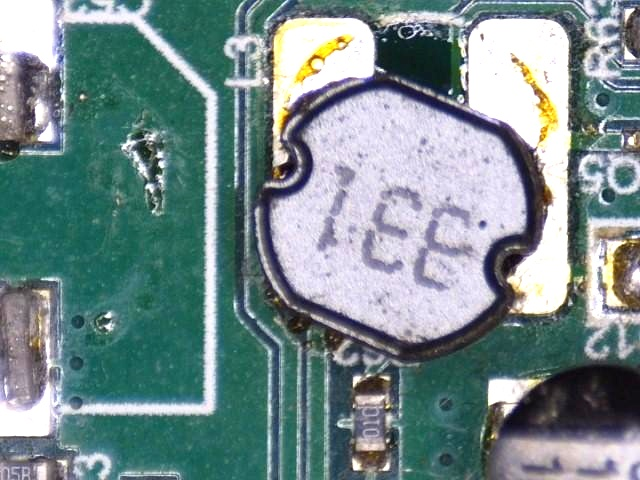pcb_defect: (253, 17, 572, 364)
